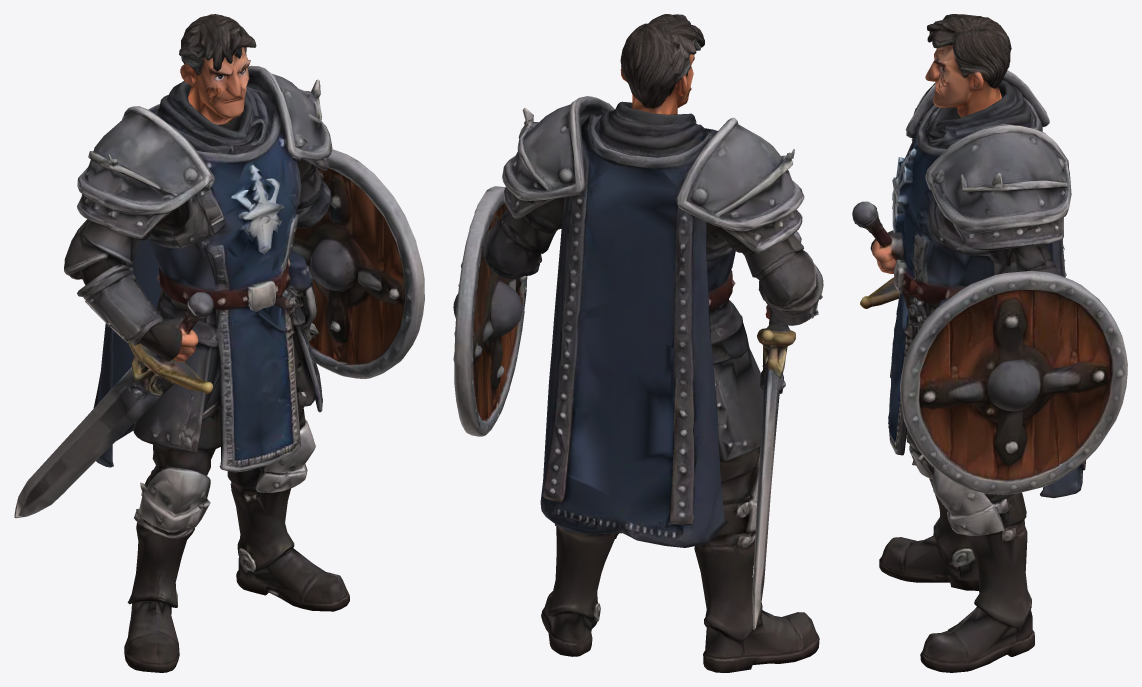
File: brann154.glb
The picture shows the model from 3 angles, left to right: view 1: azimuth 30°, elevation 25°; view 2: azimuth 150°, elevation 25°; view 3: azimuth 270°, elevation 25°; orthographic projection. The views are drawn at different scales.
Visible parts, largest first — view 1: tripo_node_aebe52bd-1ee9-4205-a30e-1fcde250c133; view 2: tripo_node_aebe52bd-1ee9-4205-a30e-1fcde250c133; view 3: tripo_node_aebe52bd-1ee9-4205-a30e-1fcde250c133.
Boxes of the visible parts, x1,y1,x2,y2 form: tripo_node_aebe52bd-1ee9-4205-a30e-1fcde250c133: [14, 14, 424, 672]; tripo_node_aebe52bd-1ee9-4205-a30e-1fcde250c133: [453, 14, 823, 672]; tripo_node_aebe52bd-1ee9-4205-a30e-1fcde250c133: [852, 14, 1127, 672].
Bounding box in the file's own units: 0.5525 × 0.9793 × 0.4079.
1 material, 1 textured.
